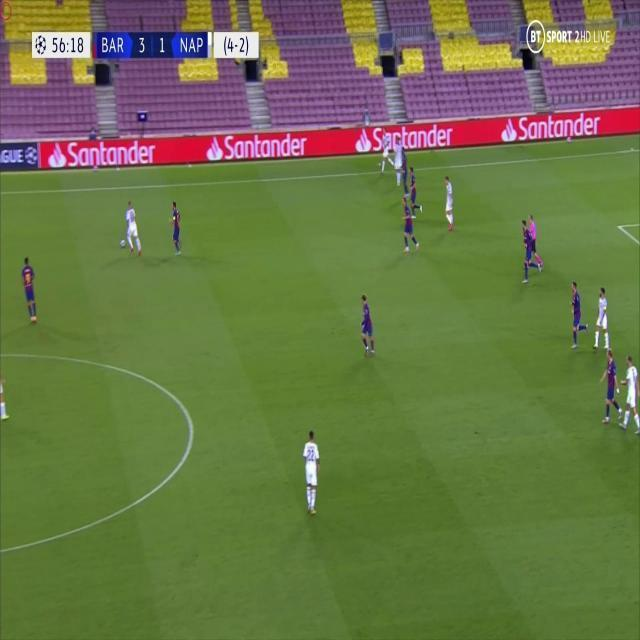ball: (119, 237, 125, 249)
player: (301, 422, 323, 515), (599, 350, 621, 425), (619, 353, 639, 433), (566, 278, 586, 350), (19, 254, 39, 325), (592, 285, 612, 352), (358, 292, 376, 360), (400, 198, 420, 253), (519, 215, 535, 283), (123, 199, 142, 256), (166, 198, 183, 257), (441, 173, 456, 233), (406, 163, 421, 214), (379, 124, 392, 173), (401, 146, 411, 195), (393, 136, 402, 187)
referee: (523, 212, 544, 281)
